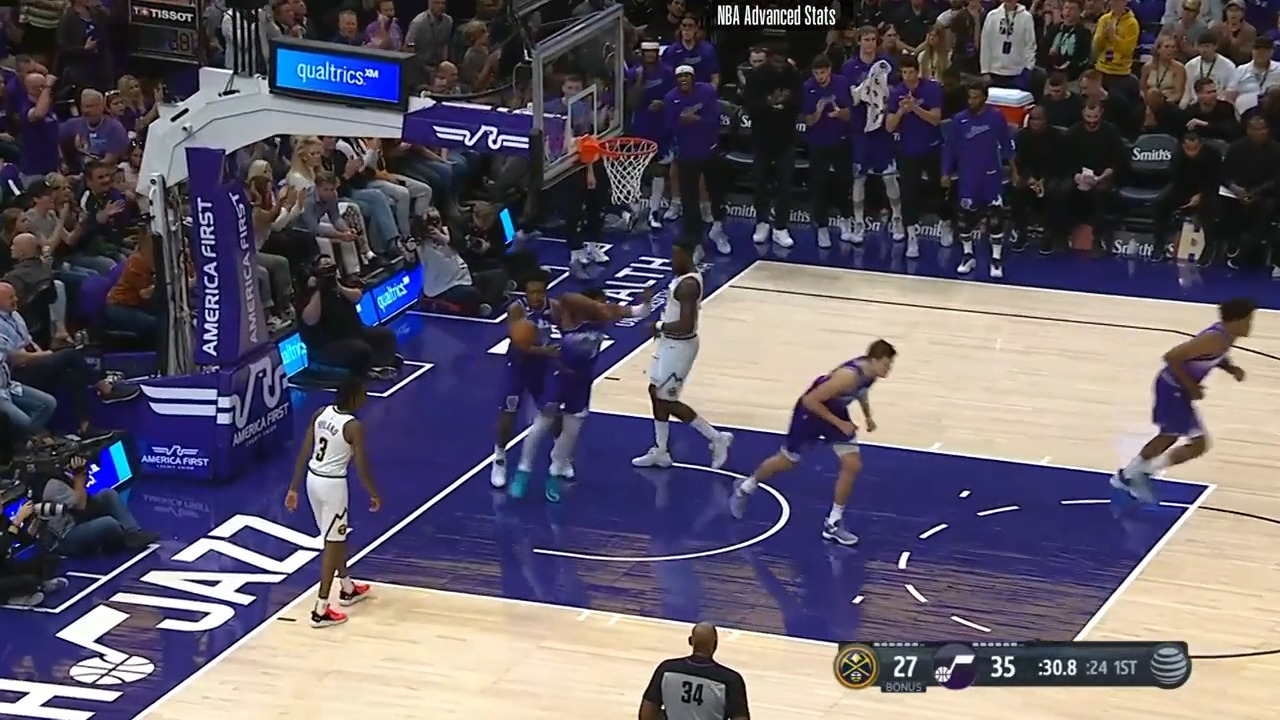net: (580, 126, 663, 202)
player: (505, 276, 660, 505), (733, 342, 901, 550), (1111, 296, 1259, 509), (289, 375, 384, 626), (639, 242, 732, 477), (490, 266, 579, 500)
referee: (634, 621, 760, 718)
